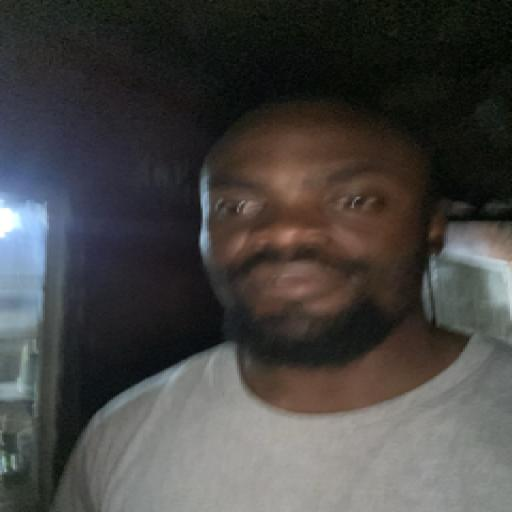JEANLUC: (198, 88, 439, 358)
